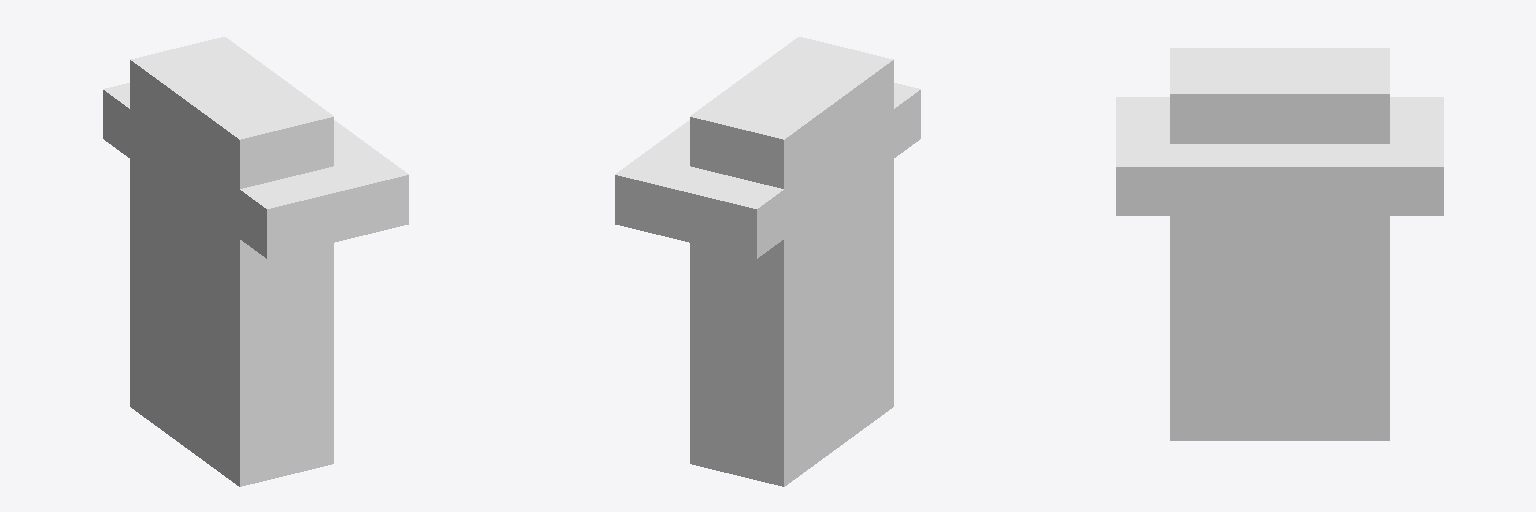
File: BobLArm.obj
The picture shows the model from 3 angles: view 1: azimuth 30°, elevation 25°; view 2: azimuth 150°, elevation 25°; view 3: azimuth 270°, elevation 25°; orthographic projection.
Visible parts, largest first — view 1: object 1; view 2: object 1; view 3: object 1.
Boxes of the visible parts, <box> form: object 1: <box>103,37,408,486</box>; object 1: <box>615,37,920,486</box>; object 1: <box>1116,48,1443,440</box>.
Bounding box in the file's own units: 0.3 × 0.7 × 0.6.